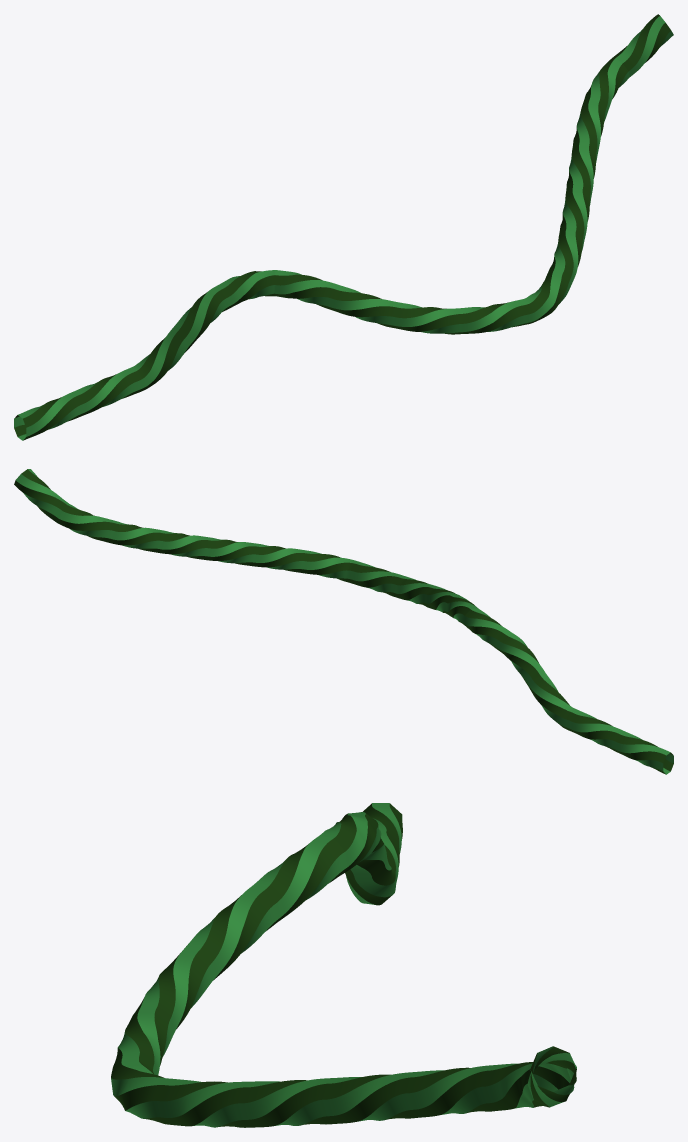
3 views of the same model, one above another, from view 1: azimuth 30°, elevation 25°; view 2: azimuth 150°, elevation 25°; view 3: azimuth 270°, elevation 25° (orthographic). The views are drawn at different scales.
Visible parts, largest first — view 1: Cylinder.017, Cylinder.010, Cylinder.015, Cylinder.011, Cylinder.009, Cylinder.001, Cylinder.014, Cylinder.012, Cylinder.016, Cylinder.008, Cylinder.013, Cylinder.003 (+4 smaller); view 2: Cylinder.015, Cylinder.017, Cylinder.003, Cylinder.001, Cylinder.008, Cylinder.014, Cylinder.007, Cylinder.004, Cylinder.016, Cylinder.006, Cylinder.005, Cylinder.009 (+4 smaller); view 3: Cylinder.011, Cylinder.006, Cylinder.012, Cylinder.005, Cylinder.007, Cylinder.004, Cylinder.010, Cylinder.003, Cylinder.008, Cylinder.009, Cylinder.013, Cylinder.001 (+4 smaller).
Part boxes in pixels (left/top/right/bottom): Cylinder.017: left=14, top=392, right=80, bottom=440; Cylinder.010: left=390, top=302, right=460, bottom=334; Cylinder.015: left=126, top=329, right=191, bottom=394; Cylinder.011: left=328, top=284, right=395, bottom=327; Cylinder.009: left=457, top=300, right=524, bottom=334; Cylinder.001: left=612, top=14, right=673, bottom=76; Cylinder.014: left=172, top=286, right=229, bottom=344; Cylinder.012: left=274, top=270, right=335, bottom=308; Cylinder.016: left=72, top=369, right=134, bottom=417; Cylinder.008: left=516, top=272, right=569, bottom=325; Cylinder.013: left=217, top=270, right=275, bottom=308; Cylinder.003: left=582, top=58, right=629, bottom=114; Cylinder.015: left=527, top=672, right=579, bottom=732; Cylinder.017: left=617, top=731, right=673, bottom=774; Cylinder.003: left=57, top=504, right=116, bottom=542; Cylinder.001: left=14, top=469, right=68, bottom=522; Cylinder.008: left=304, top=550, right=363, bottom=584; Cylinder.014: left=497, top=632, right=544, bottom=684; Cylinder.007: left=253, top=543, right=308, bottom=573; Cylinder.004: left=109, top=520, right=164, bottom=552; Cylinder.016: left=572, top=711, right=624, bottom=753; Cylinder.006: left=205, top=537, right=259, bottom=566; Cylinder.005: left=158, top=530, right=211, bottom=559; Cylinder.009: left=354, top=563, right=406, bottom=598; Cylinder.011: left=184, top=885, right=281, bottom=980; Cylinder.006: left=238, top=1078, right=337, bottom=1127; Cylinder.012: left=253, top=836, right=347, bottom=923; Cylinder.005: left=323, top=1071, right=420, bottom=1123; Cylinder.007: left=157, top=1079, right=253, bottom=1127; Cylinder.004: left=406, top=1064, right=498, bottom=1117; Cylinder.010: left=132, top=947, right=217, bottom=1031; Cylinder.003: left=481, top=1061, right=570, bottom=1110; Cylinder.008: left=111, top=1054, right=176, bottom=1124; Cylinder.009: left=112, top=1006, right=174, bottom=1075; Cylinder.013: left=319, top=814, right=377, bottom=876; Cylinder.001: left=527, top=1046, right=576, bottom=1107.
Size of the model in its own units: 12872 by 3835 by 4272.
